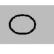no answer: (8, 10, 39, 36)
